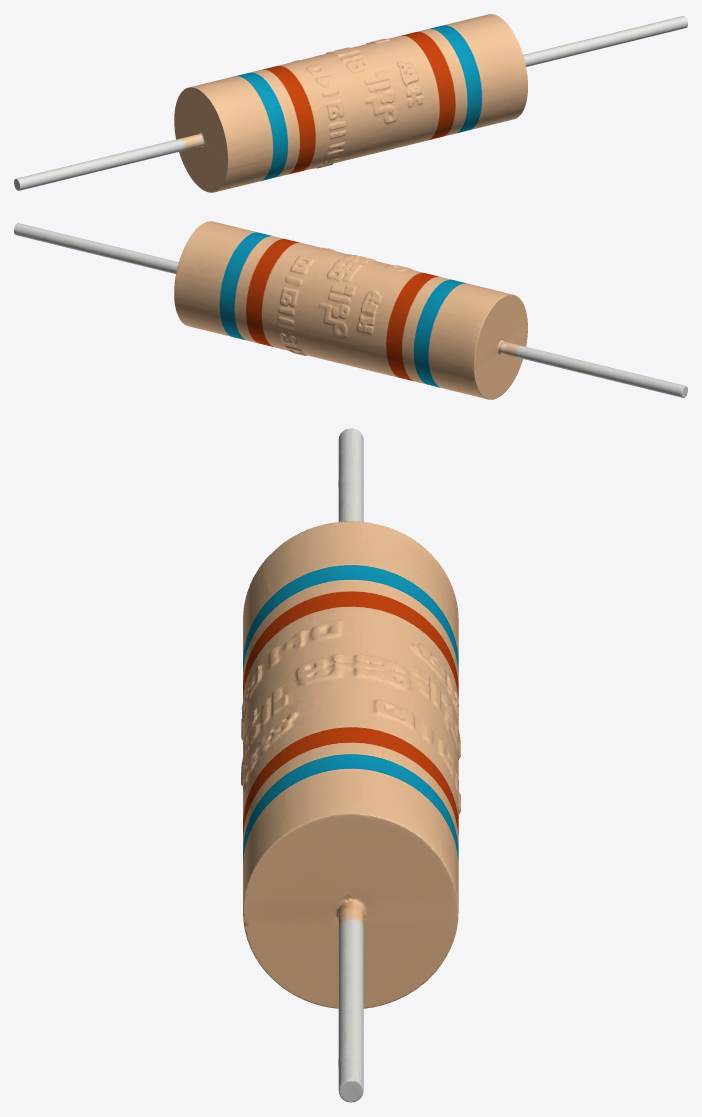
File: resistor.glb
3 renders of one model, top to bottom at view 1: azimuth 30°, elevation 25°; view 2: azimuth 150°, elevation 25°; view 3: azimuth 270°, elevation 25°, orthographic. The views are drawn at different scales.
Size of the model in its own units: 1.9 by 0.2692 by 0.2711.
1 material, 1 textured.
